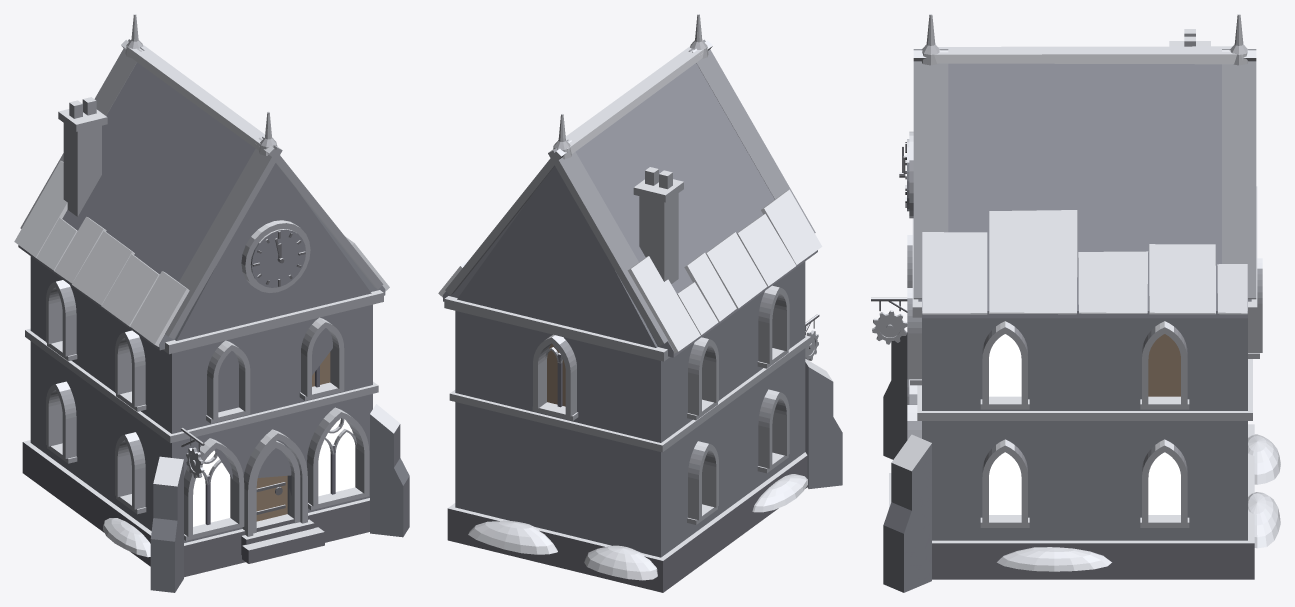
File: AR_Casa_Relojoeiro_Cristal.fbx
The picture shows the model from 3 angles, left to right: view 1: azimuth 30°, elevation 25°; view 2: azimuth 150°, elevation 25°; view 3: azimuth 270°, elevation 25°; orthographic projection. The views are drawn at different scales.
Visible parts, largest first — view 1: AR_Casa_Relojoeiro_Cristal; view 2: AR_Casa_Relojoeiro_Cristal; view 3: AR_Casa_Relojoeiro_Cristal.
Boxes of the visible parts, x1,y1,x2,y2 form: AR_Casa_Relojoeiro_Cristal: (14,14,409,592); AR_Casa_Relojoeiro_Cristal: (438,14,842,592); AR_Casa_Relojoeiro_Cristal: (871,14,1280,592).
Size of the model in its own units: 9.52 by 15.38 by 11.3.
